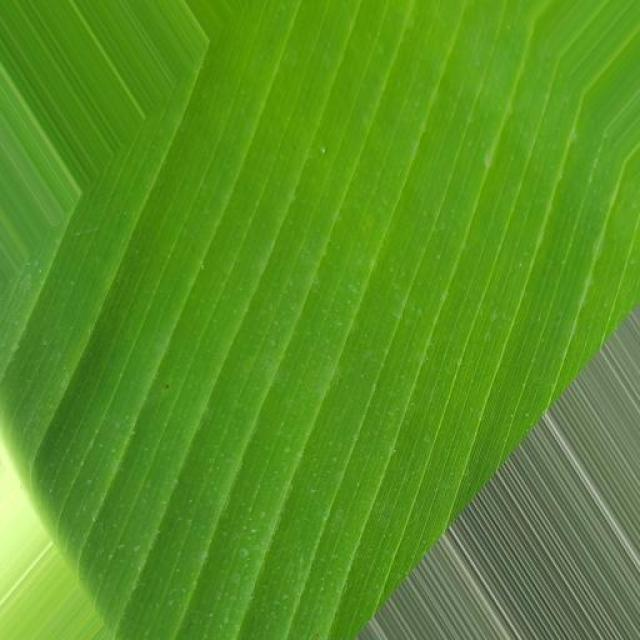Black_leaf_spot: (39, 38, 608, 552)
